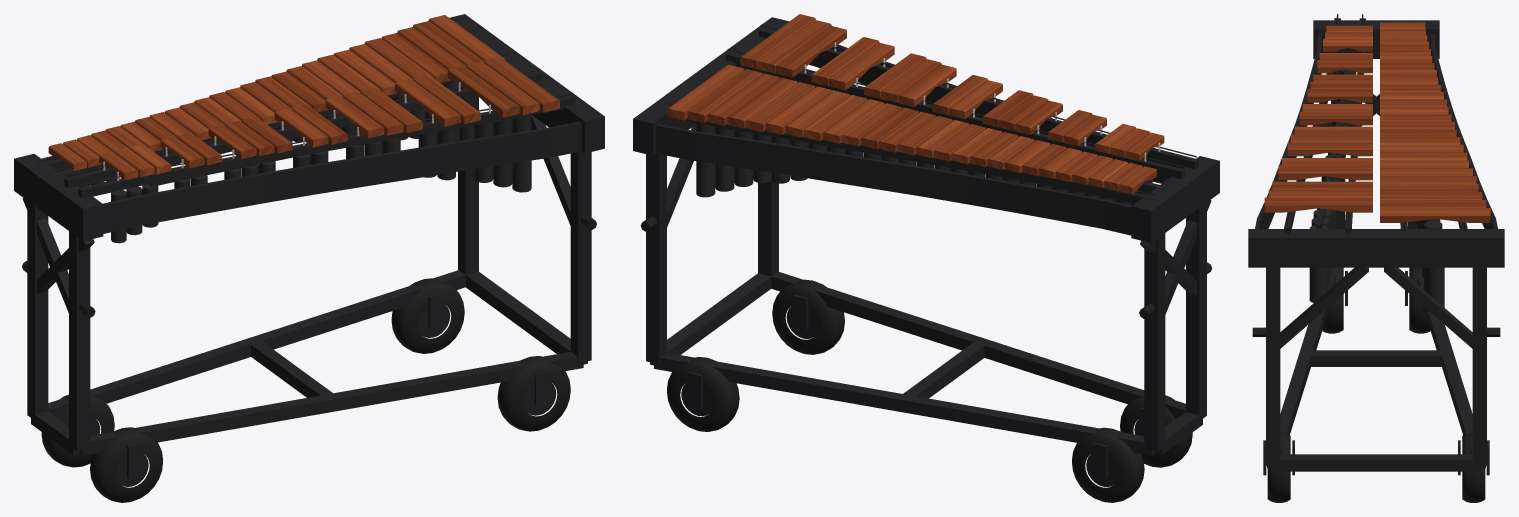
The model's file is xylophone-3.5-synthetic-black.glb.
The picture shows the model from 3 angles, left to right: view 1: azimuth 30°, elevation 25°; view 2: azimuth 150°, elevation 25°; view 3: azimuth 270°, elevation 25°; orthographic projection. The views are drawn at different scales.
Visible parts, largest first — view 1: frame, bars-synthetic, artwork, rubber, resonators-black; view 2: frame, bars-synthetic, rubber, resonators-black; view 3: frame, bars-synthetic, rubber, resonators-black.
Part boxes in pixels (x1,y1,x2,y2): frame: [14, 14, 604, 486]; bars-synthetic: [48, 15, 559, 180]; artwork: [103, 123, 581, 233]; rubber: [22, 28, 596, 502]; resonators-black: [79, 82, 531, 243]; frame: [633, 17, 1219, 486]; bars-synthetic: [667, 14, 1164, 194]; rubber: [640, 24, 1212, 502]; resonators-black: [696, 74, 1152, 205]; frame: [1248, 18, 1504, 475]; bars-synthetic: [1264, 22, 1490, 222]; rubber: [1252, 14, 1500, 502]; resonators-black: [1309, 69, 1444, 310].
Bounding box in the file's own units: 1.45 × 0.94 × 0.7214.
6 materials, 1 textured.
